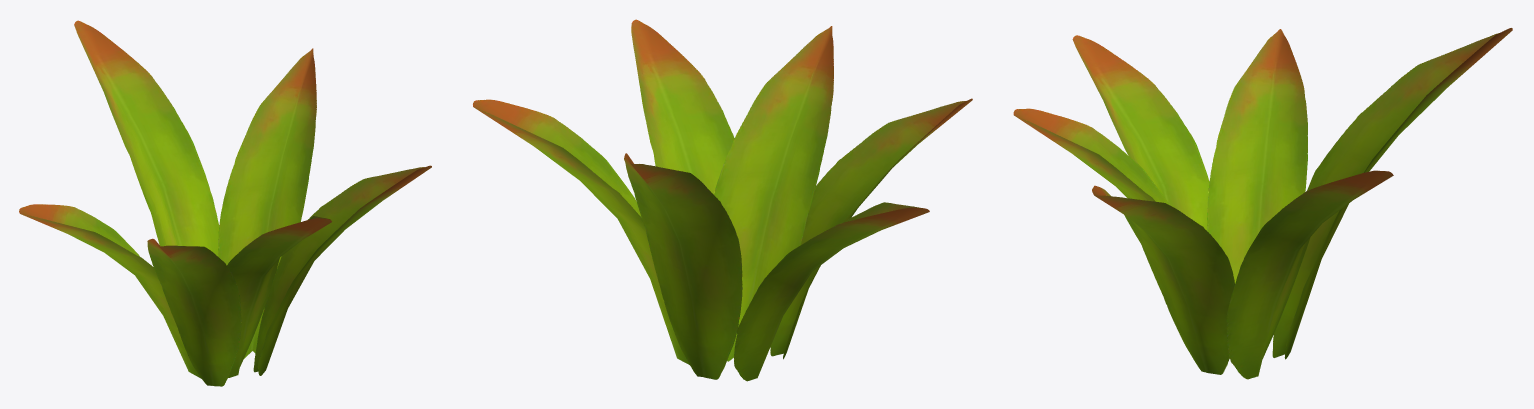
The model's file is Plant_1.gltf.
3 views of the same model, side by side, from view 1: azimuth 30°, elevation 25°; view 2: azimuth 150°, elevation 25°; view 3: azimuth 270°, elevation 25° (orthographic). The views are drawn at different scales.
Parts seen in each view (by area): view 1: Plant_1; view 2: Plant_1; view 3: Plant_1.
Boxes of the visible parts, left/top/right/bottom form: Plant_1: left=19, top=20, right=431, bottom=386; Plant_1: left=473, top=19, right=972, bottom=381; Plant_1: left=1013, top=28, right=1512, bottom=379.
Bounding box in the file's own units: 1.27 × 1.01 × 1.39.
1 material, 1 textured.
